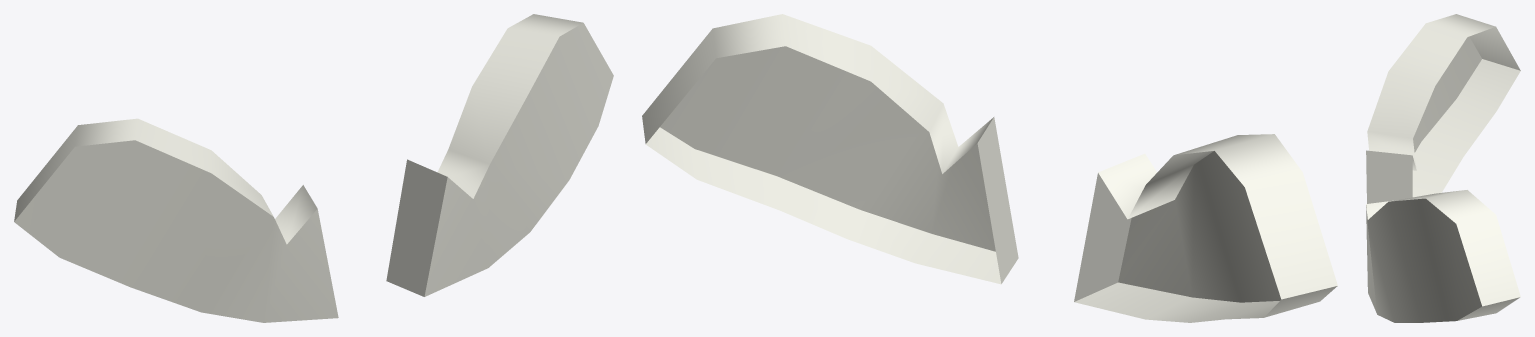
File: Brow_White_10.fbx
3 views of the same model, side by side, from view 1: azimuth 30°, elevation 25°; view 2: azimuth 150°, elevation 25°; view 3: azimuth 270°, elevation 25° (orthographic). The views are drawn at different scales.
Visible parts, largest first — view 1: Brow_White_10; view 2: Brow_White_10; view 3: Brow_White_10.
Boxes of the visible parts, <box> form: Brow_White_10: <box>14,14,613,322</box>; Brow_White_10: <box>642,14,1337,322</box>; Brow_White_10: <box>1366,14,1520,322</box>.
Size of the model in its own units: 40.26 by 12.48 by 10.64.
